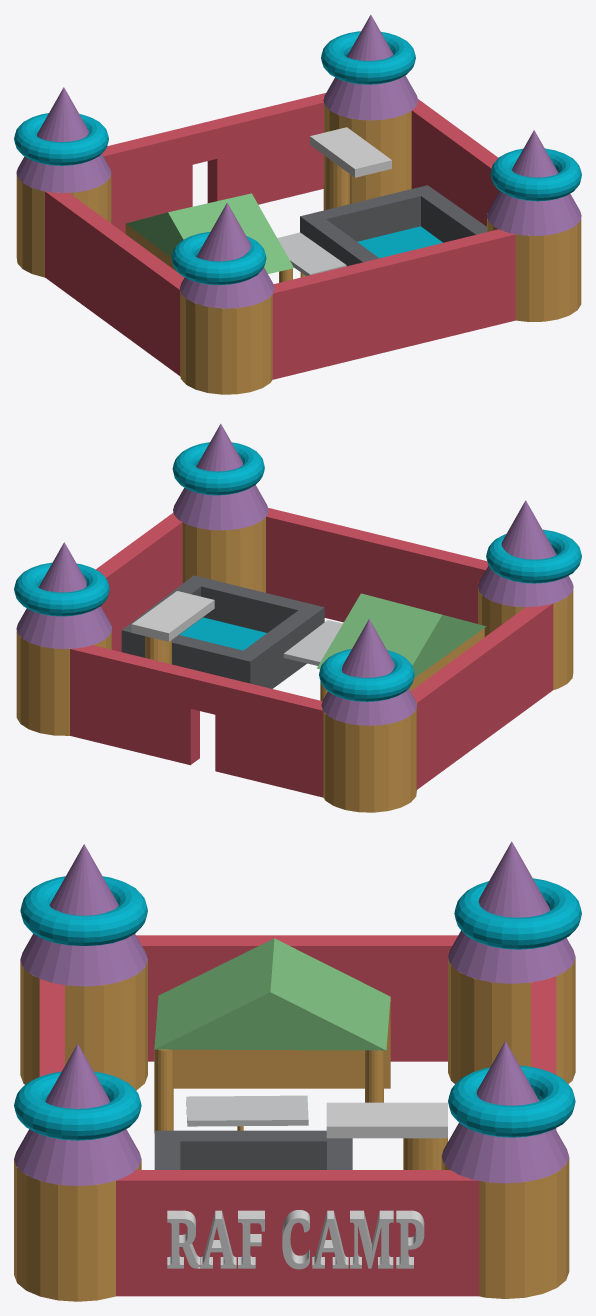
File: raphaelcastle.glb
3 renders of one model, top to bottom at view 1: azimuth 30°, elevation 25°; view 2: azimuth 150°, elevation 25°; view 3: azimuth 270°, elevation 25°, orthographic. The views are drawn at different scales.
Visible parts, largest first — view 1: Mesh_Mesh_head_geo.001_lambert2SG.001; view 2: Mesh_Mesh_head_geo.001_lambert2SG.001; view 3: Mesh_Mesh_head_geo.001_lambert2SG.001.
Part boxes in pixels (x1=…): Mesh_Mesh_head_geo.001_lambert2SG.001: x1=14, y1=14, x2=581, y2=394; Mesh_Mesh_head_geo.001_lambert2SG.001: x1=14, y1=423, x2=581, y2=812; Mesh_Mesh_head_geo.001_lambert2SG.001: x1=14, y1=841, x2=581, y2=1301.
Size of the model in its own units: 97 by 40 by 89.
